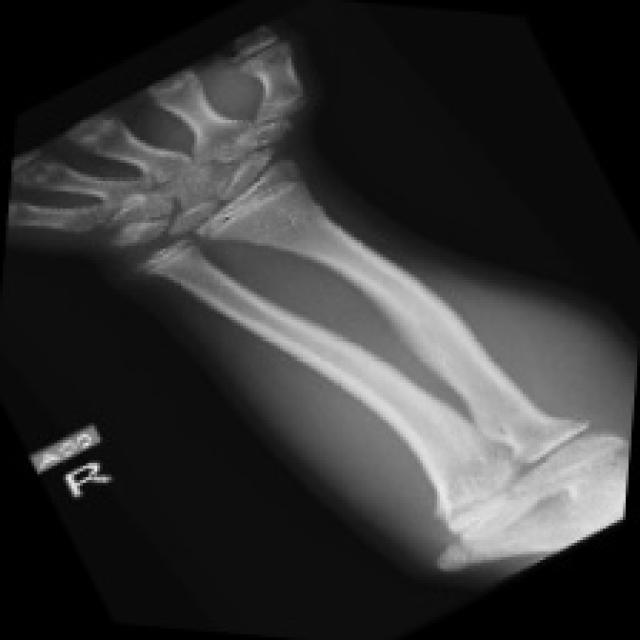fracture: (330, 294, 527, 392)
